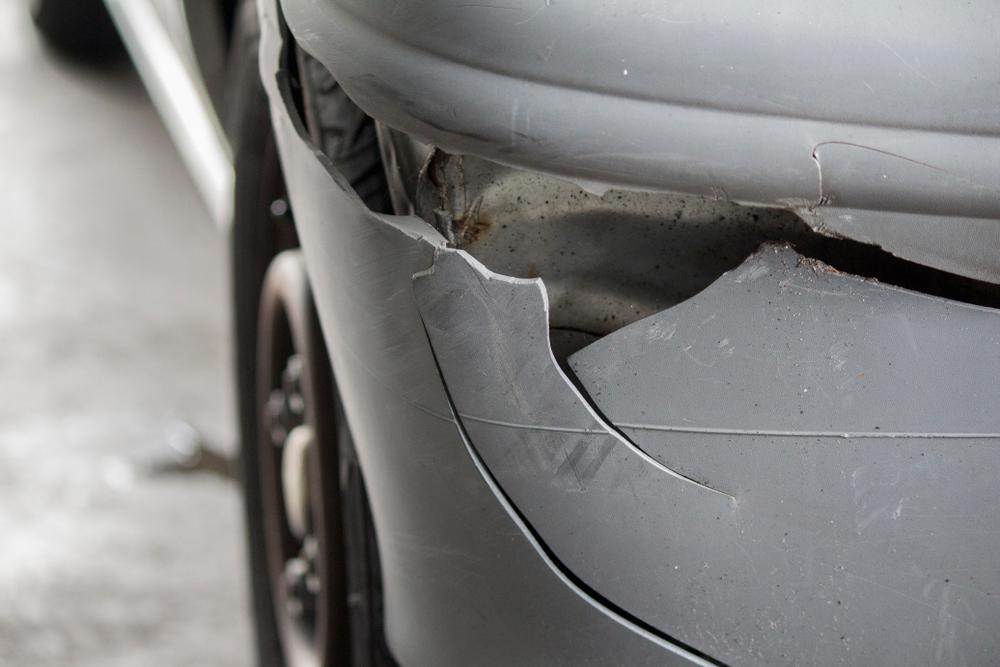crack: (275, 0, 1000, 667)
